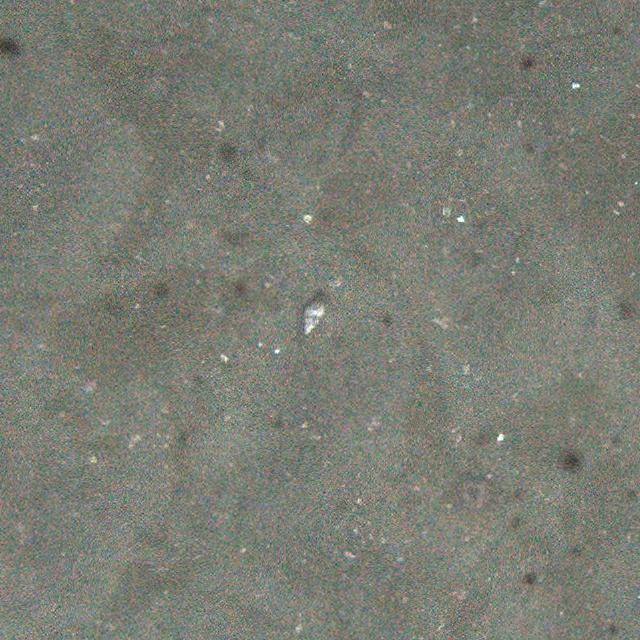whelk: (303, 291, 325, 334)
